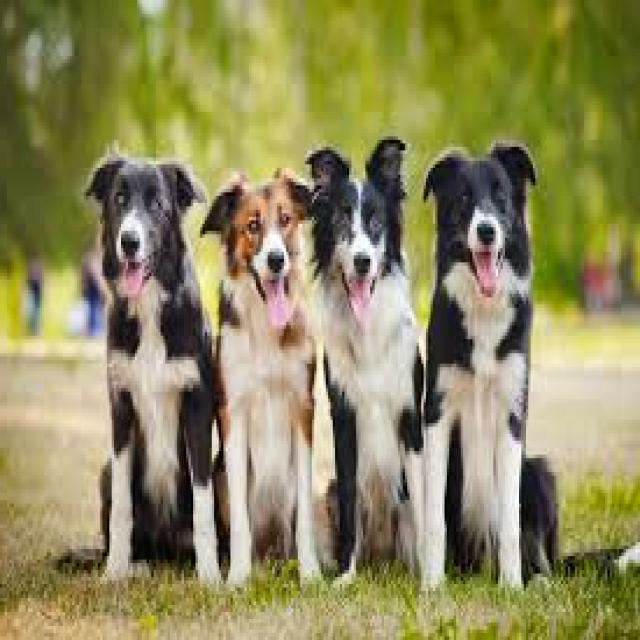dog: (424, 143, 559, 584), (88, 154, 216, 577), (307, 136, 424, 581), (202, 168, 321, 584)
